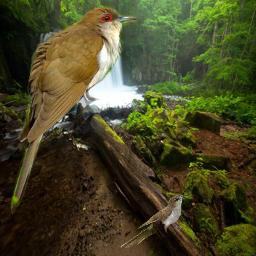Cuckoo: (11, 4, 137, 215), (120, 194, 188, 248)
